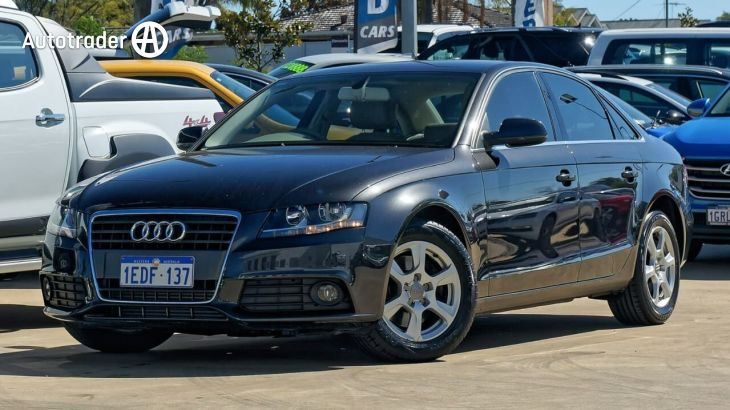audi: (124, 218, 186, 243)
